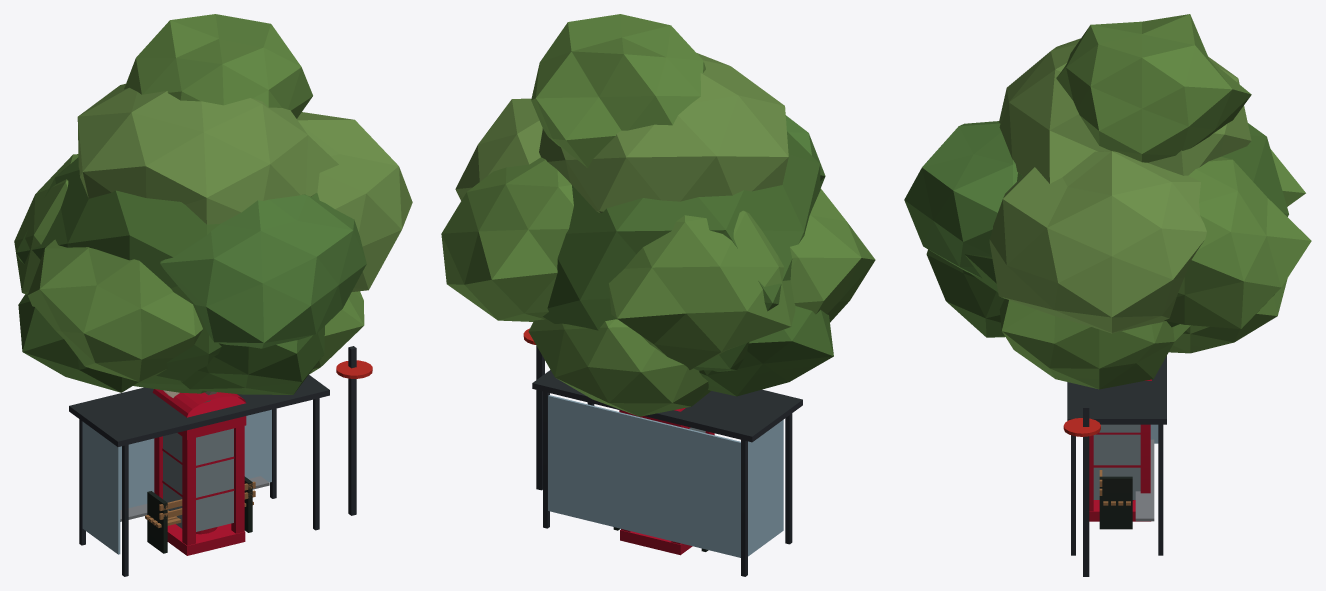
Rendered from props.min.glb.
3 views of the same model, side by side, from view 1: azimuth 30°, elevation 25°; view 2: azimuth 150°, elevation 25°; view 3: azimuth 270°, elevation 25° (orthographic). The views are drawn at different scales.
Parts seen in each view (by area): view 1: tree1, tree2, busstop, phonebox, bench; view 2: tree1, busstop, tree2, phonebox; view 3: tree1, tree2, busstop, phonebox, bench.
Boxes of the visible parts, left/top/right/bottom form: tree1: left=14, top=14, right=412, bottom=381; tree2: left=16, top=157, right=364, bottom=402; busstop: left=69, top=346, right=372, bottom=576; phonebox: left=152, top=389, right=246, bottom=555; bench: left=145, top=476, right=255, bottom=553; tree1: left=441, top=14, right=875, bottom=369; busstop: left=523, top=328, right=802, bottom=576; tree2: left=528, top=131, right=833, bottom=416; phonebox: left=619, top=408, right=714, bottom=555; tree1: left=904, top=14, right=1311, bottom=333; tree2: left=926, top=123, right=1288, bottom=389; busstop: left=1063, top=356, right=1166, bottom=576; phonebox: left=1089, top=379, right=1151, bottom=521; bench: left=1099, top=470, right=1132, bottom=529.
Bounding box in the file's own units: 6.95 × 8.81 × 6.55.
